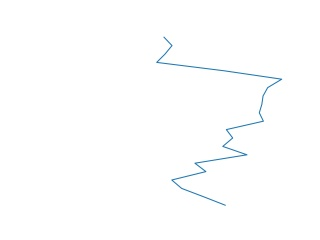floodPlain: (156, 34, 283, 208)
